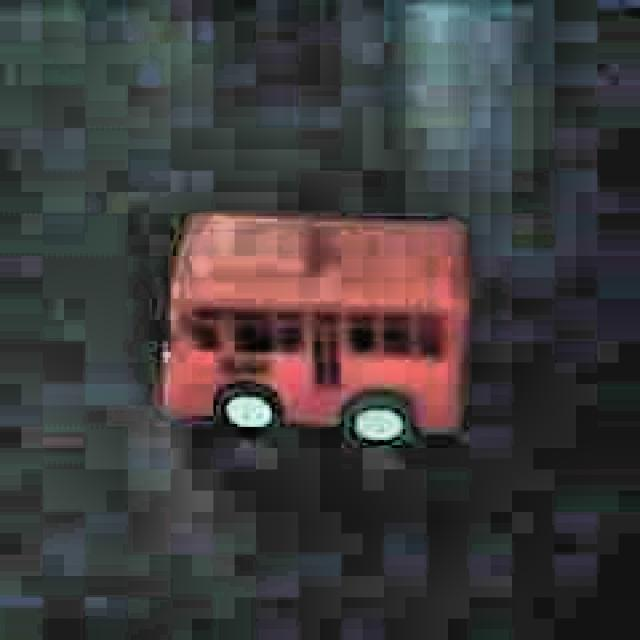bus: (149, 195, 479, 448)
